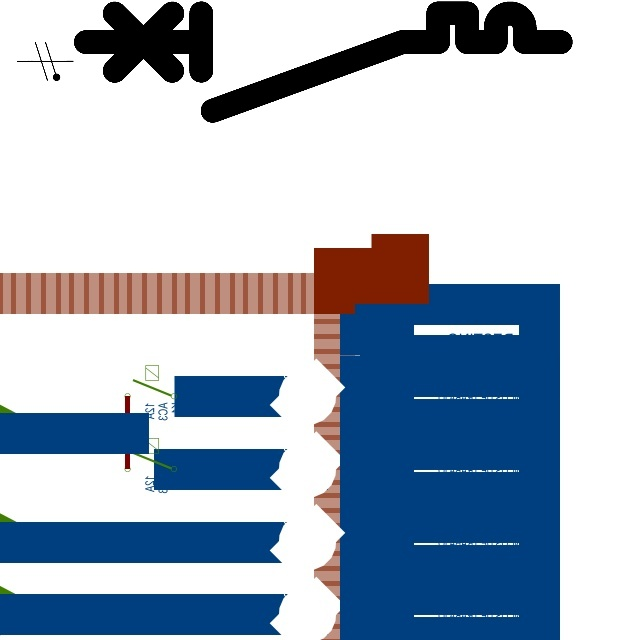interruptor_termomagnetico: (73, 1, 572, 123)
